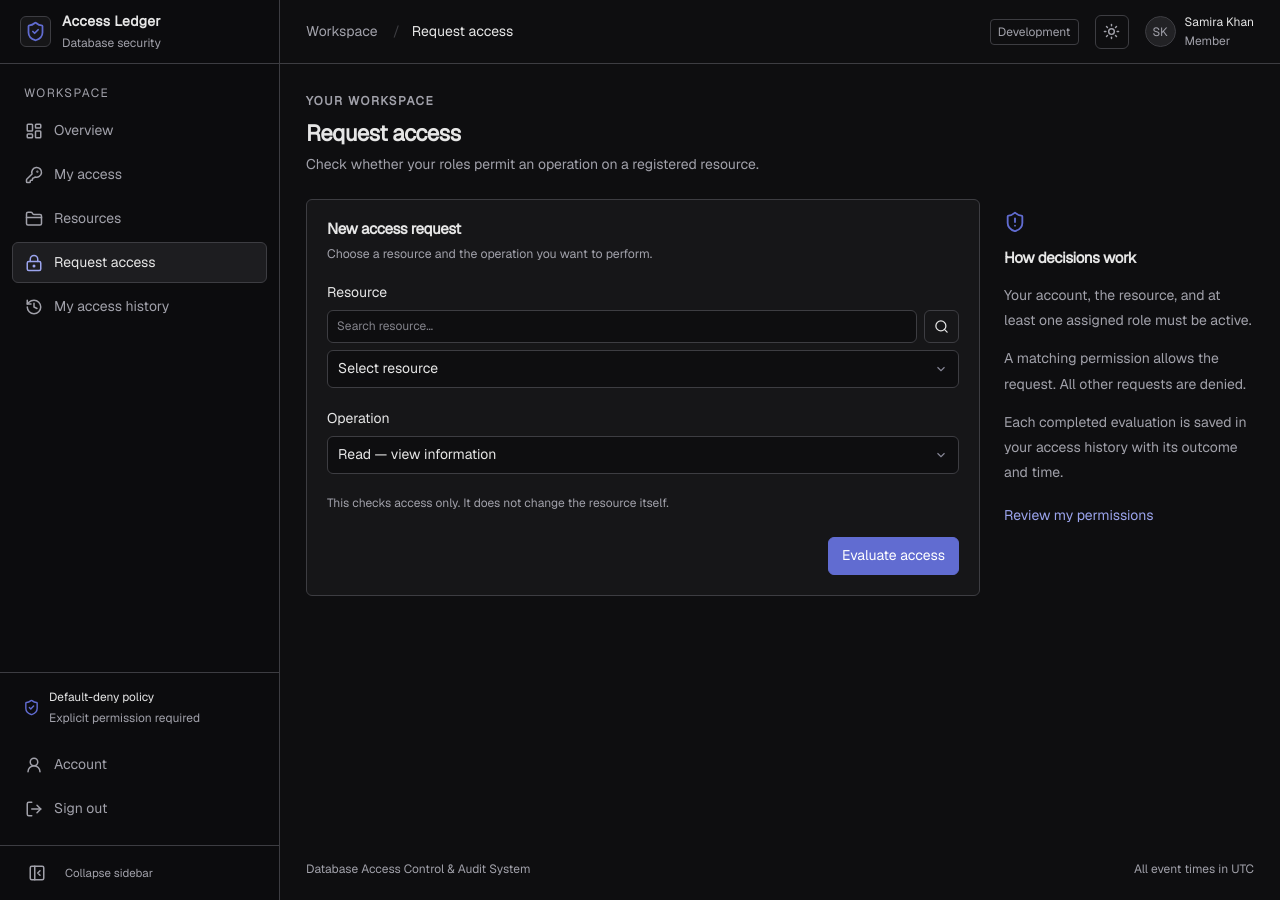
it: workspace interactions › submits a UUID and session CSRF for a resource decision
Select "Report · R42 · Quarterly report" in the dropdown labelled "Resource" at (643, 368), box [327, 350, 959, 388]
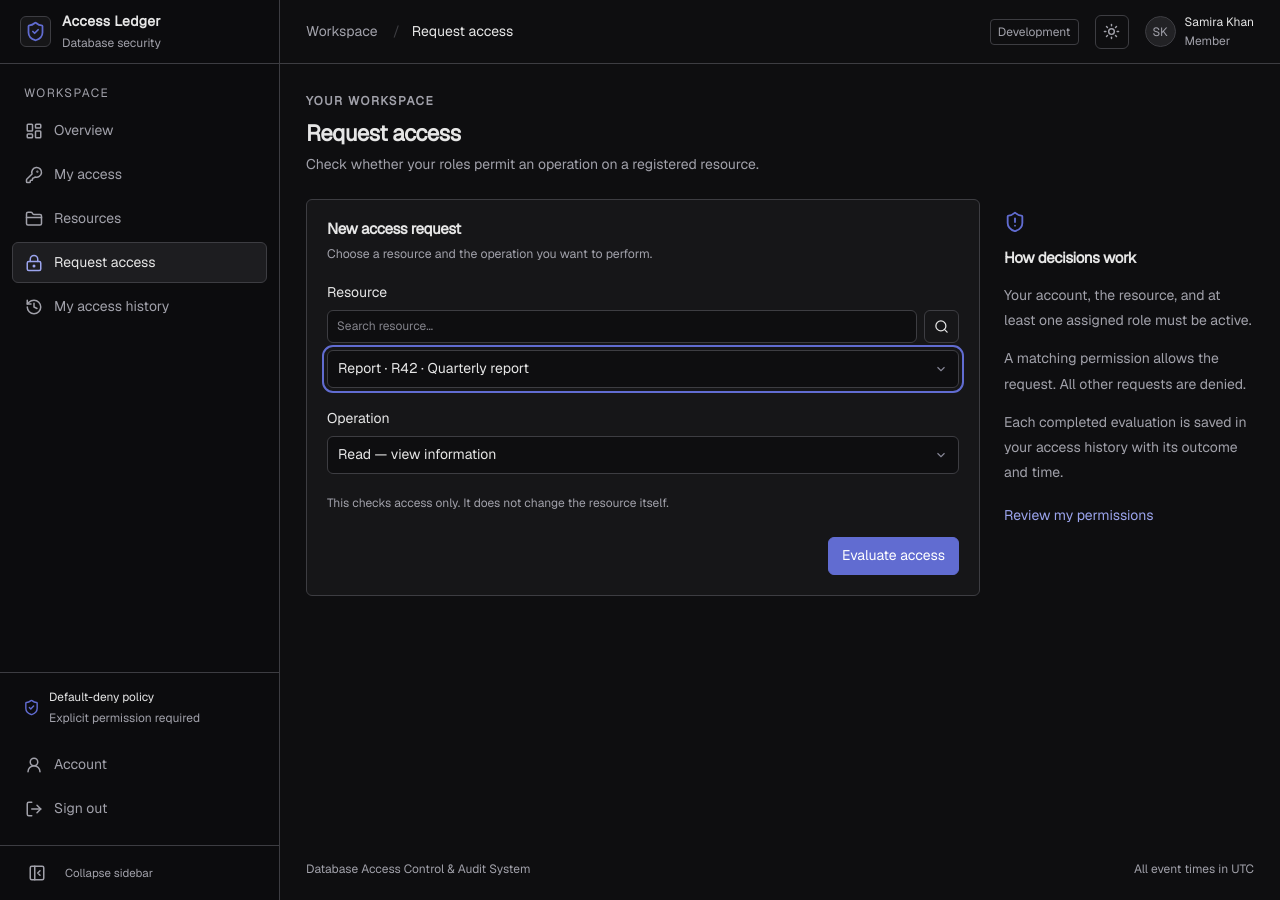
Click the button "Evaluate access" at (894, 556), box [828, 537, 959, 575]
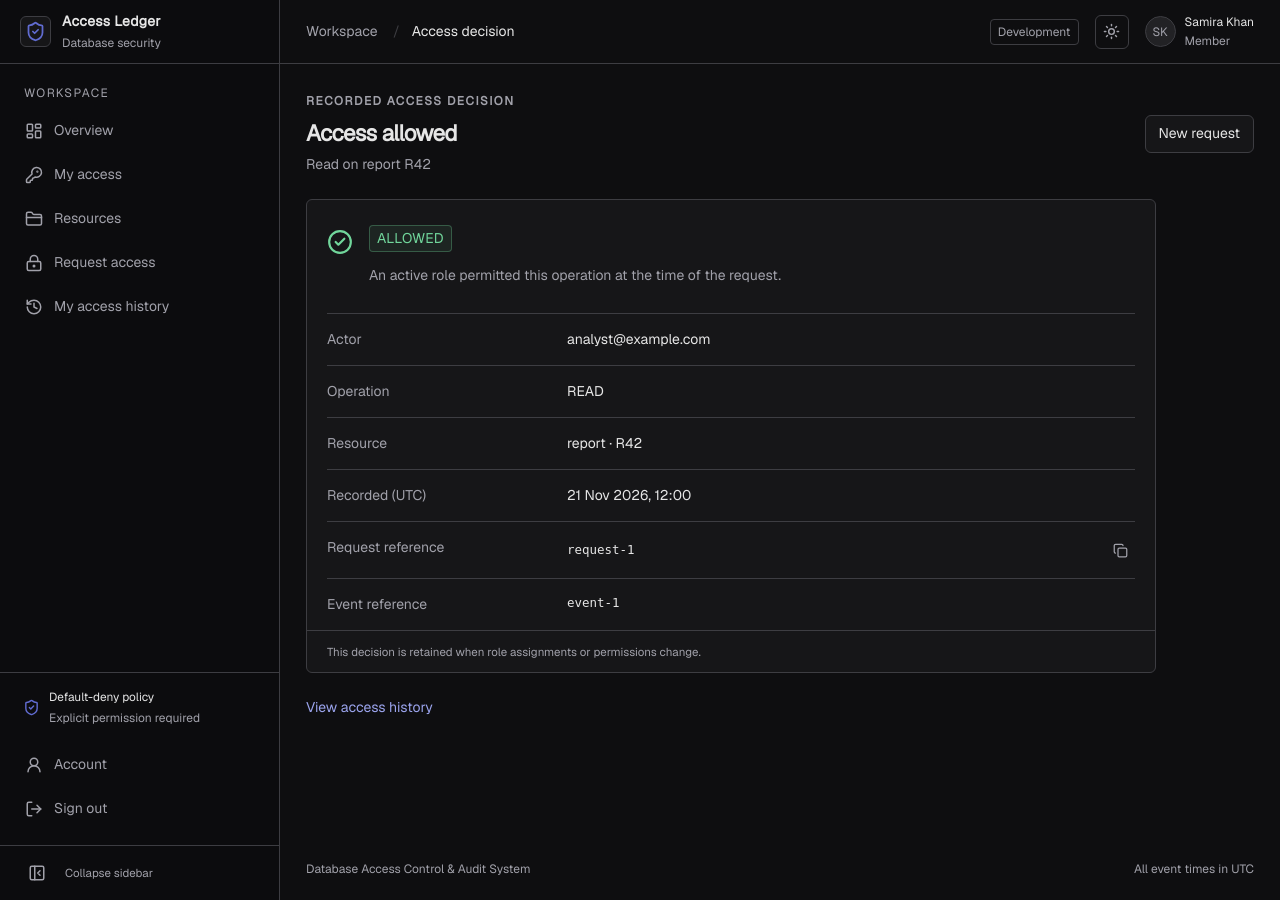
Expected: the heading "Access allowed" is shown, [306, 118, 457, 148]
